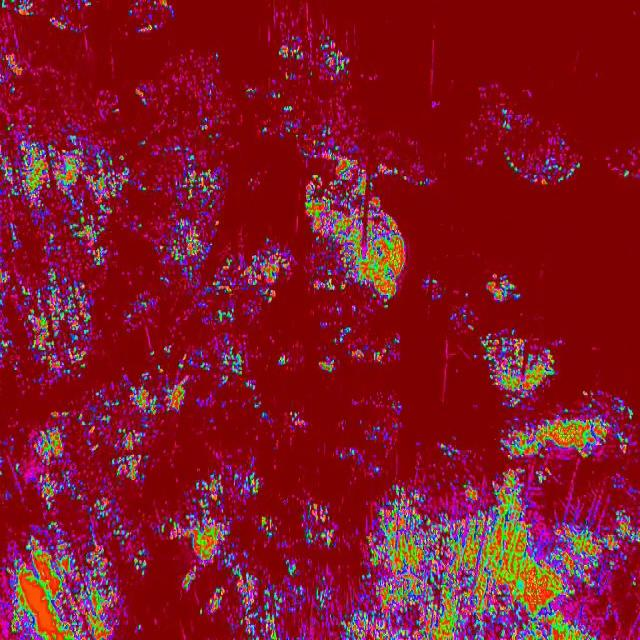fire: (0, 84, 146, 640), (339, 402, 640, 640), (147, 239, 299, 640), (305, 126, 407, 302), (146, 118, 230, 238), (266, 22, 356, 126), (488, 94, 586, 184), (312, 308, 402, 379), (478, 328, 560, 402), (299, 492, 339, 640), (416, 274, 479, 337), (0, 0, 93, 32), (482, 269, 526, 309), (123, 0, 175, 32)
